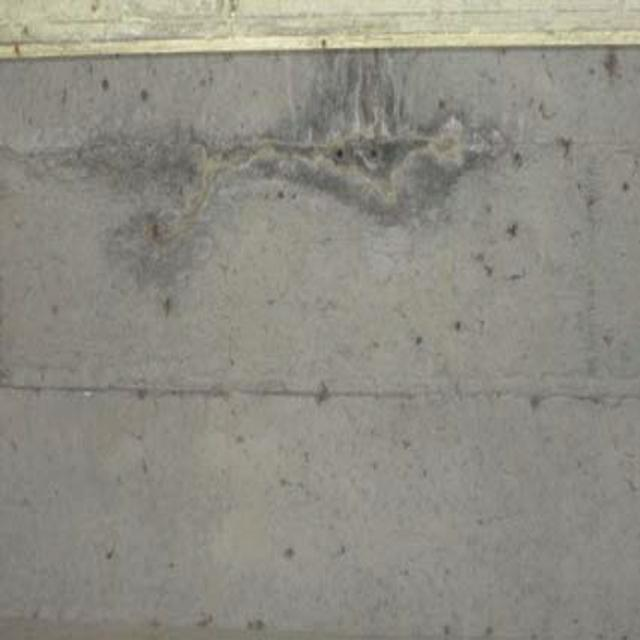freelime: (74, 93, 502, 211)
